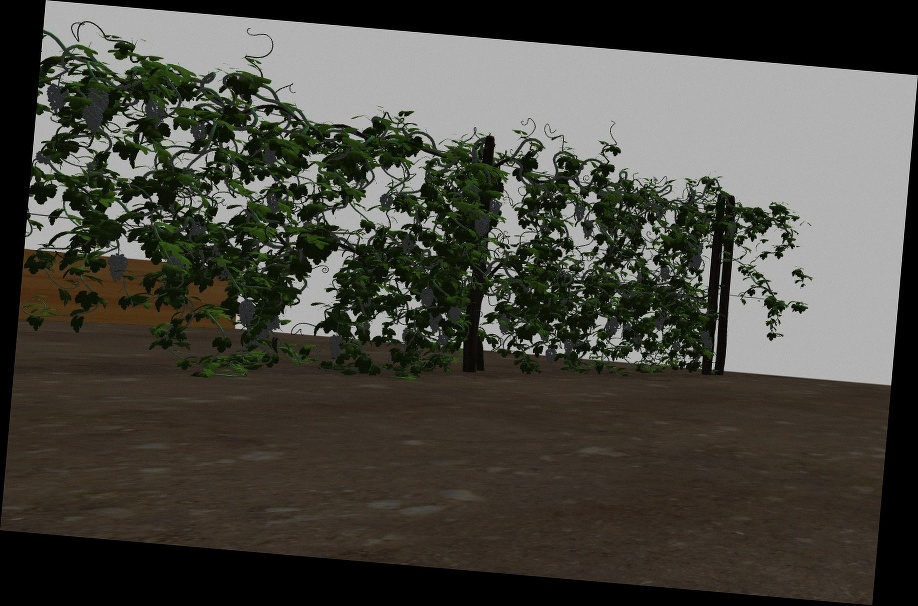grape: (81, 86, 109, 135), (106, 252, 128, 283), (46, 83, 67, 113), (237, 299, 256, 327), (327, 334, 344, 360), (473, 214, 491, 237), (447, 304, 463, 325), (604, 316, 620, 335), (420, 287, 435, 307), (428, 311, 442, 331), (379, 193, 393, 212), (581, 219, 594, 239), (488, 199, 503, 216), (563, 337, 575, 357), (544, 347, 557, 365), (573, 202, 586, 220), (659, 263, 670, 282), (690, 253, 702, 270), (654, 314, 666, 331), (726, 220, 737, 238), (700, 330, 710, 344), (703, 340, 713, 352), (672, 342, 681, 352)
